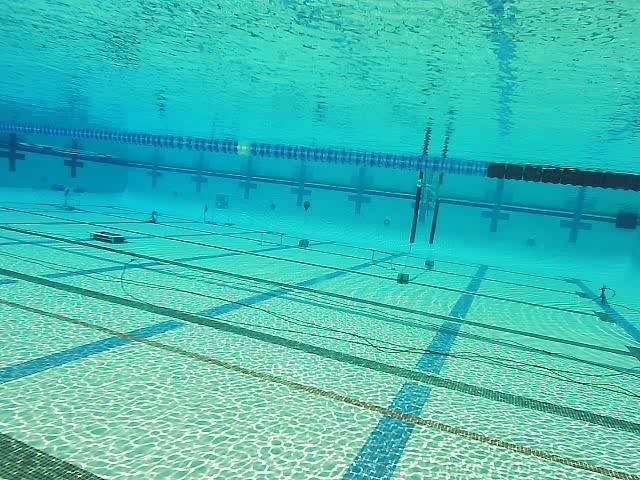dropper: (88, 231, 128, 243)
gate_leg_l: (408, 169, 424, 244)
gate_leg_r: (428, 201, 440, 245)
table: (49, 182, 86, 211)
torpedo: (214, 192, 231, 211)
